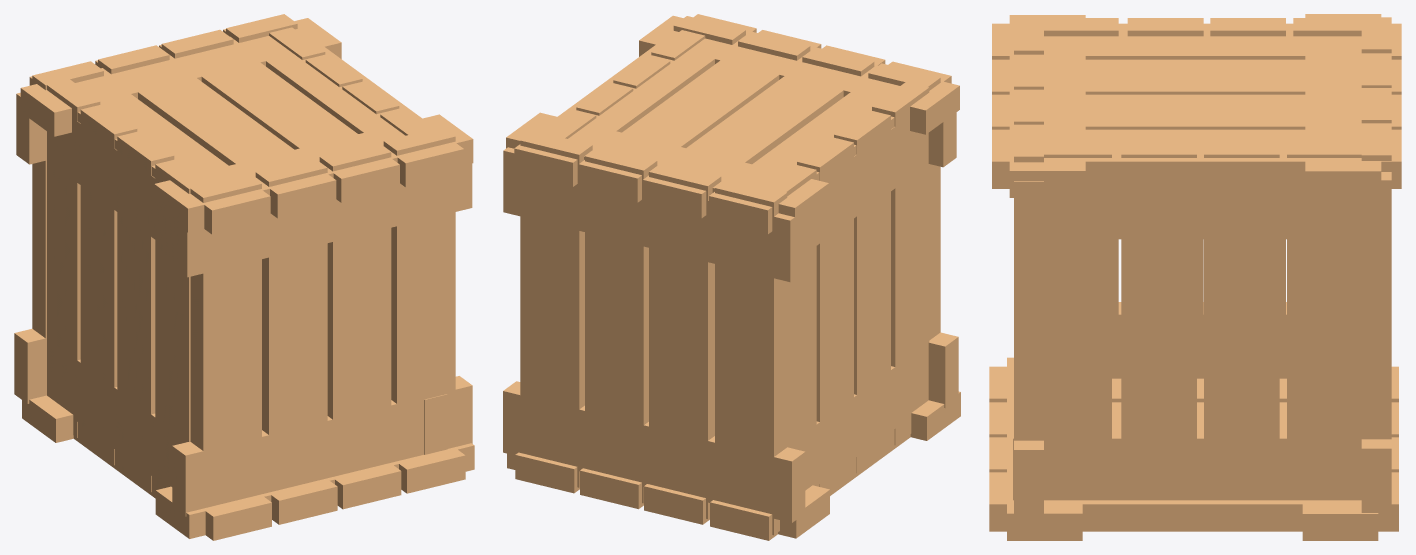
File: kibako.fbx
3 views of the same model, side by side, from view 1: azimuth 30°, elevation 25°; view 2: azimuth 150°, elevation 25°; view 3: azimuth 270°, elevation 25° (orthographic). The views are drawn at different scales.
Parts seen in each view (by area): view 1: pCube15; view 2: pCube15; view 3: pCube15.
Boxes of the visible parts, left/top/right/bottom form: pCube15: left=14, top=14, right=474, bottom=540; pCube15: left=503, top=14, right=960, bottom=540; pCube15: left=989, top=14, right=1401, bottom=540.
Size of the model in its own units: 10.32 by 11.37 by 11.32.
